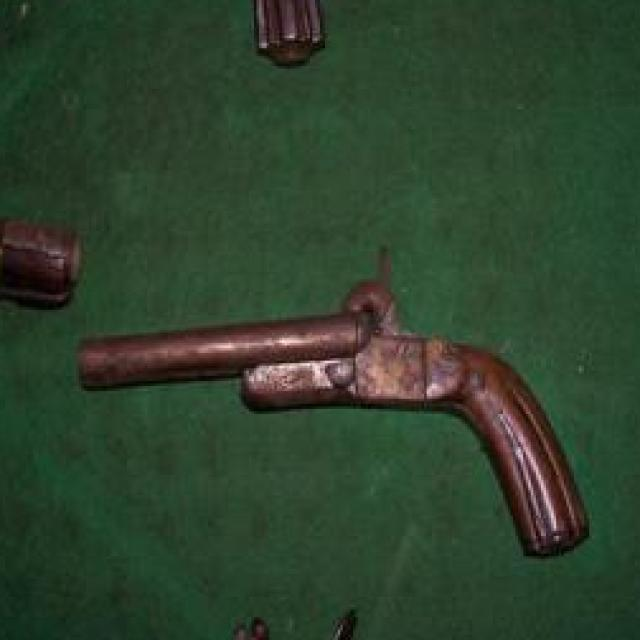pistol: (71, 246, 588, 562)
